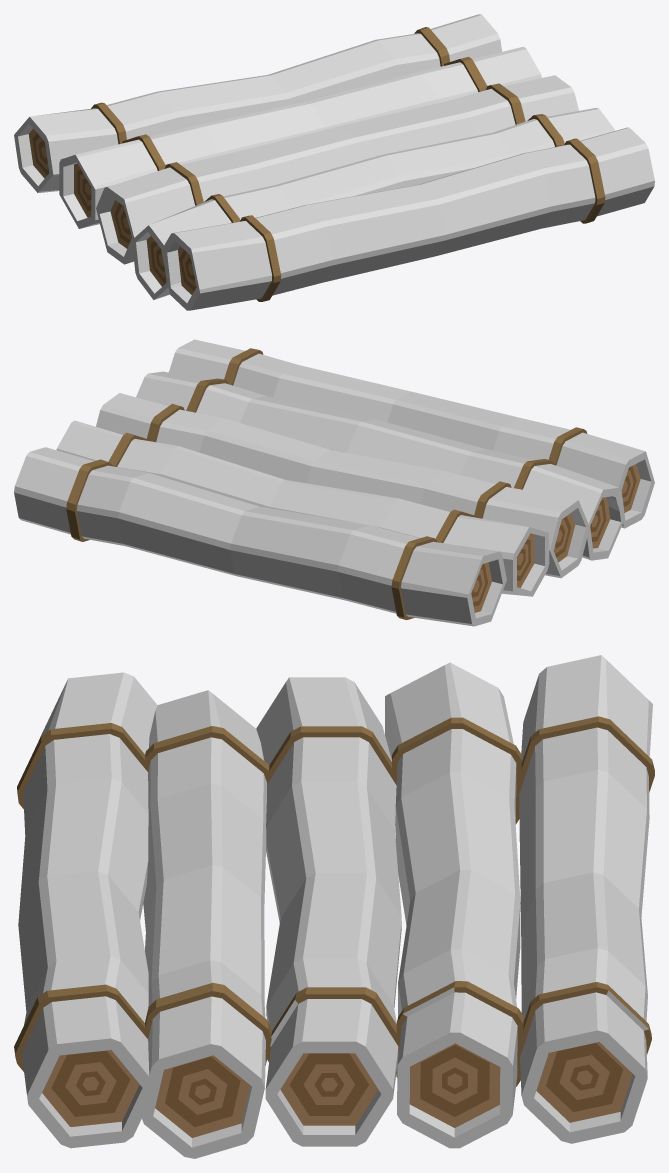
File: RaftOhDamV2.fbx
3 views of the same model, one above another, from view 1: azimuth 30°, elevation 25°; view 2: azimuth 150°, elevation 25°; view 3: azimuth 270°, elevation 25° (orthographic). The views are drawn at different scales.
Visible parts, largest first — view 1: Cylinder.002; view 2: Cylinder.002; view 3: Cylinder.002.
Part boxes in pixels (x1,y1,x2,y2): Cylinder.002: (14, 14, 654, 310); Cylinder.002: (14, 339, 654, 626); Cylinder.002: (14, 655, 654, 1158).
Size of the model in its own units: 627 by 123 by 467.
